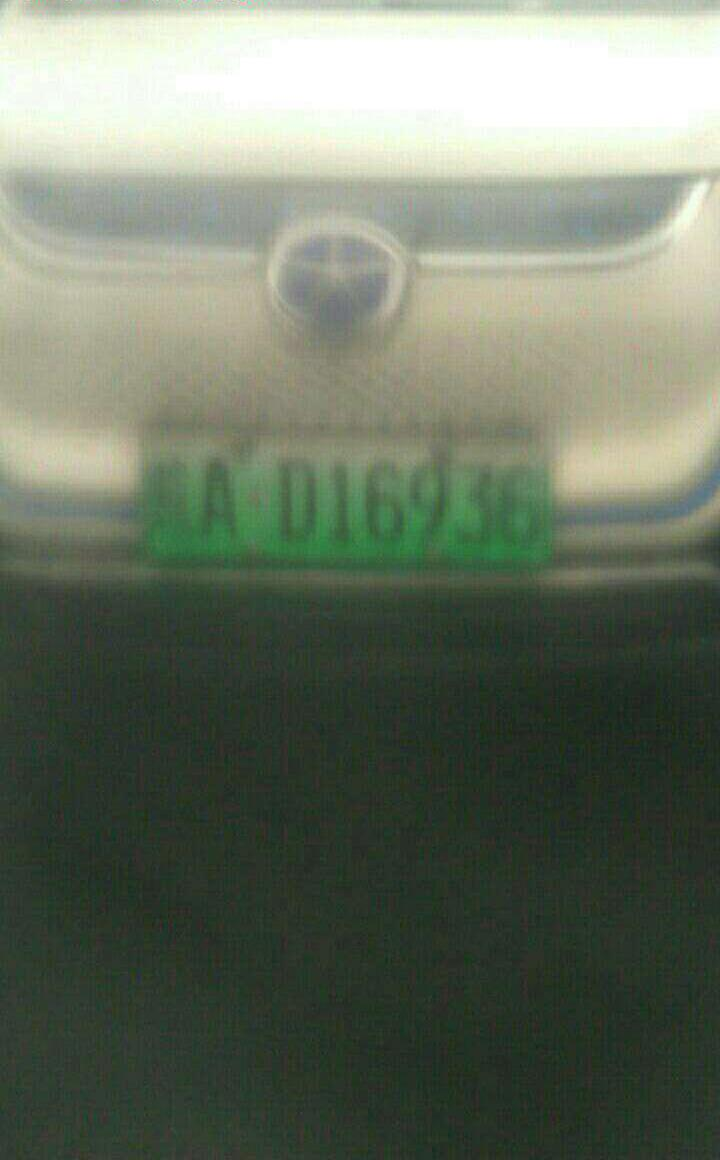car_id: (137, 431, 551, 564)
